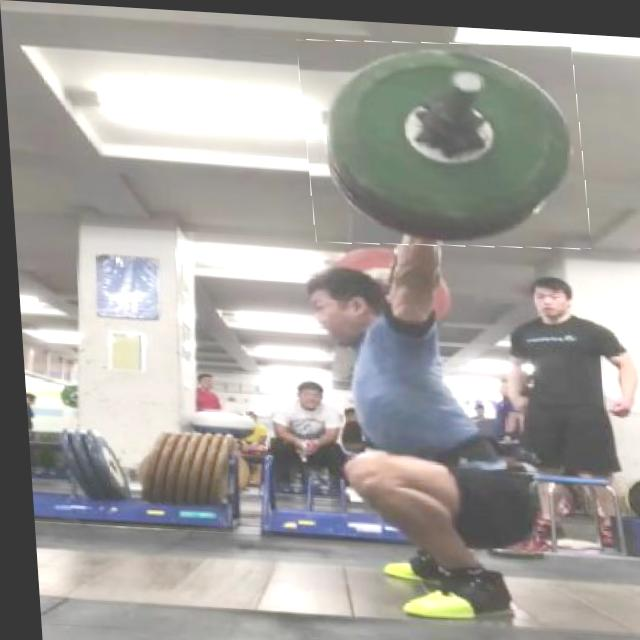barbell: (298, 30, 588, 250)
